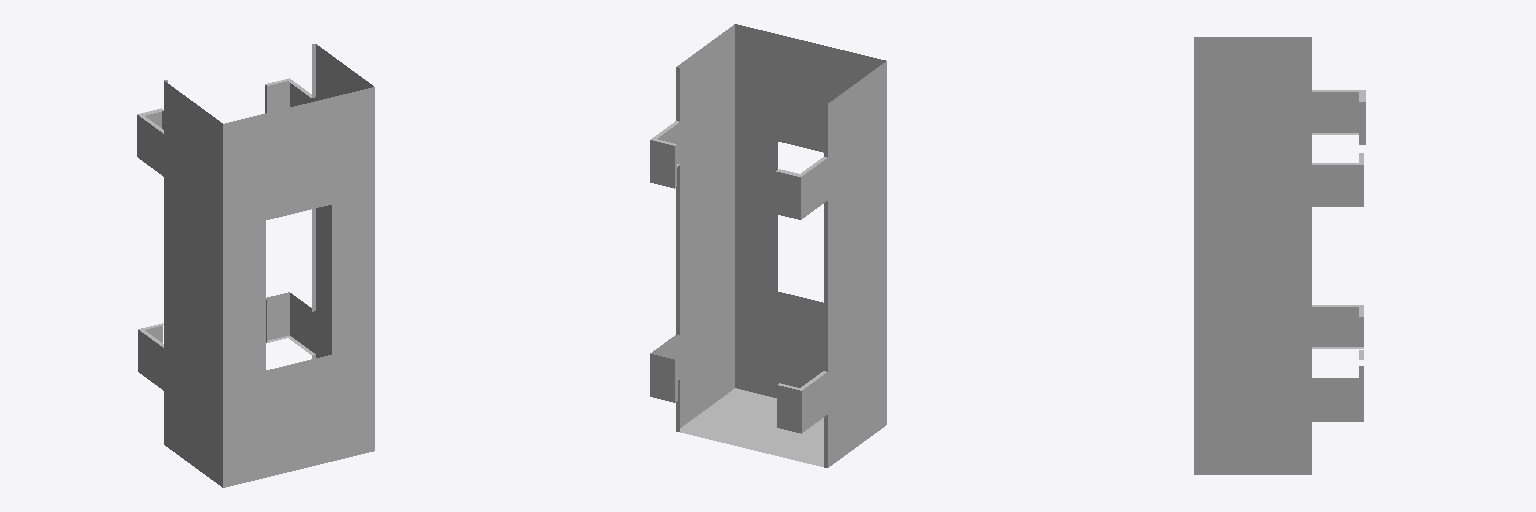
The model's file is original-2.obj.
3 renders of one model, left to right at view 1: azimuth 30°, elevation 25°; view 2: azimuth 150°, elevation 25°; view 3: azimuth 270°, elevation 25°, orthographic.
Parts seen in each view (by area): view 1: 3dw.228b41e91b3eac5e6eed87081bea555c/Model/Group1/mesh1/mesh1-ge; view 2: 3dw.228b41e91b3eac5e6eed87081bea555c/Model/Group1/mesh1/mesh1-ge; view 3: 3dw.228b41e91b3eac5e6eed87081bea555c/Model/Group1/mesh1/mesh1-ge.
Part boxes in pixels (x1,y1,x2,y2): 3dw.228b41e91b3eac5e6eed87081bea555c/Model/Group1/mesh1/mesh1-ge: (137,44,374,487); 3dw.228b41e91b3eac5e6eed87081bea555c/Model/Group1/mesh1/mesh1-ge: (650,24,886,467); 3dw.228b41e91b3eac5e6eed87081bea555c/Model/Group1/mesh1/mesh1-ge: (1194,37,1365,474).
Bounding box in the file's own units: 0.6189 × 1.42 × 0.6088.